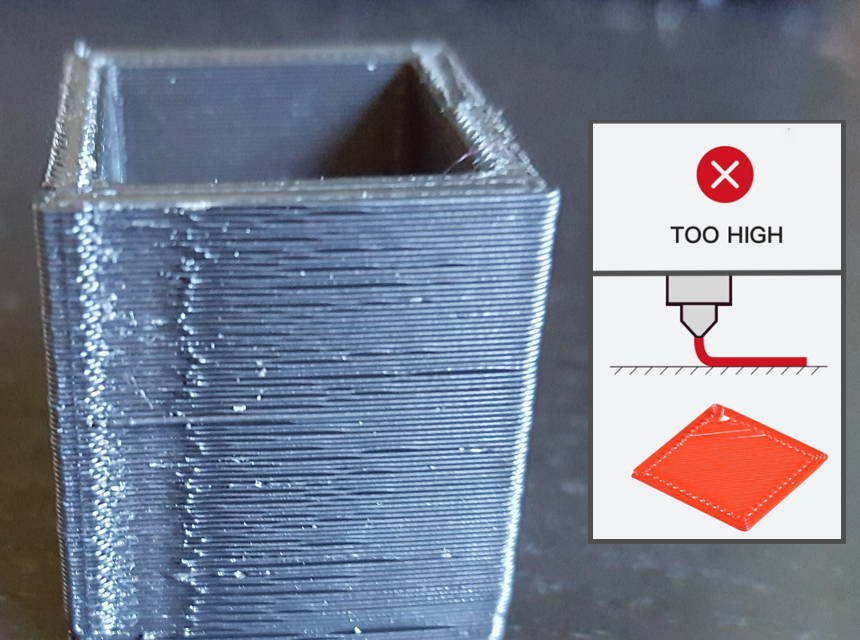blob: (143, 202, 289, 630)
